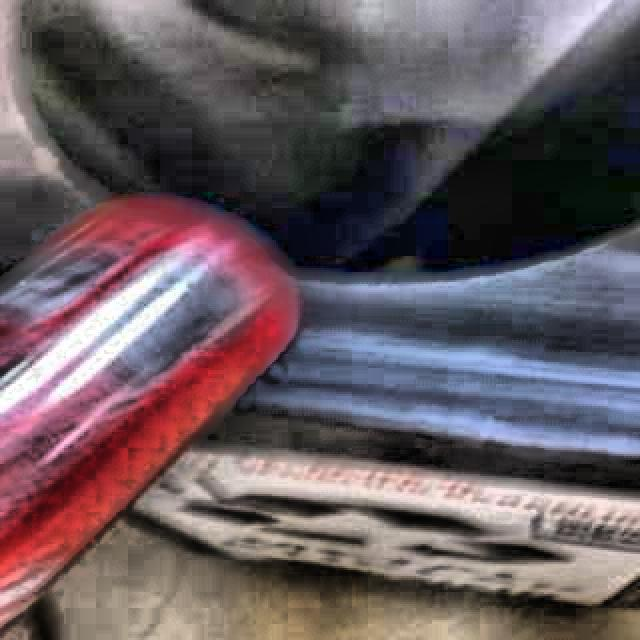metal: (0, 199, 295, 627)
